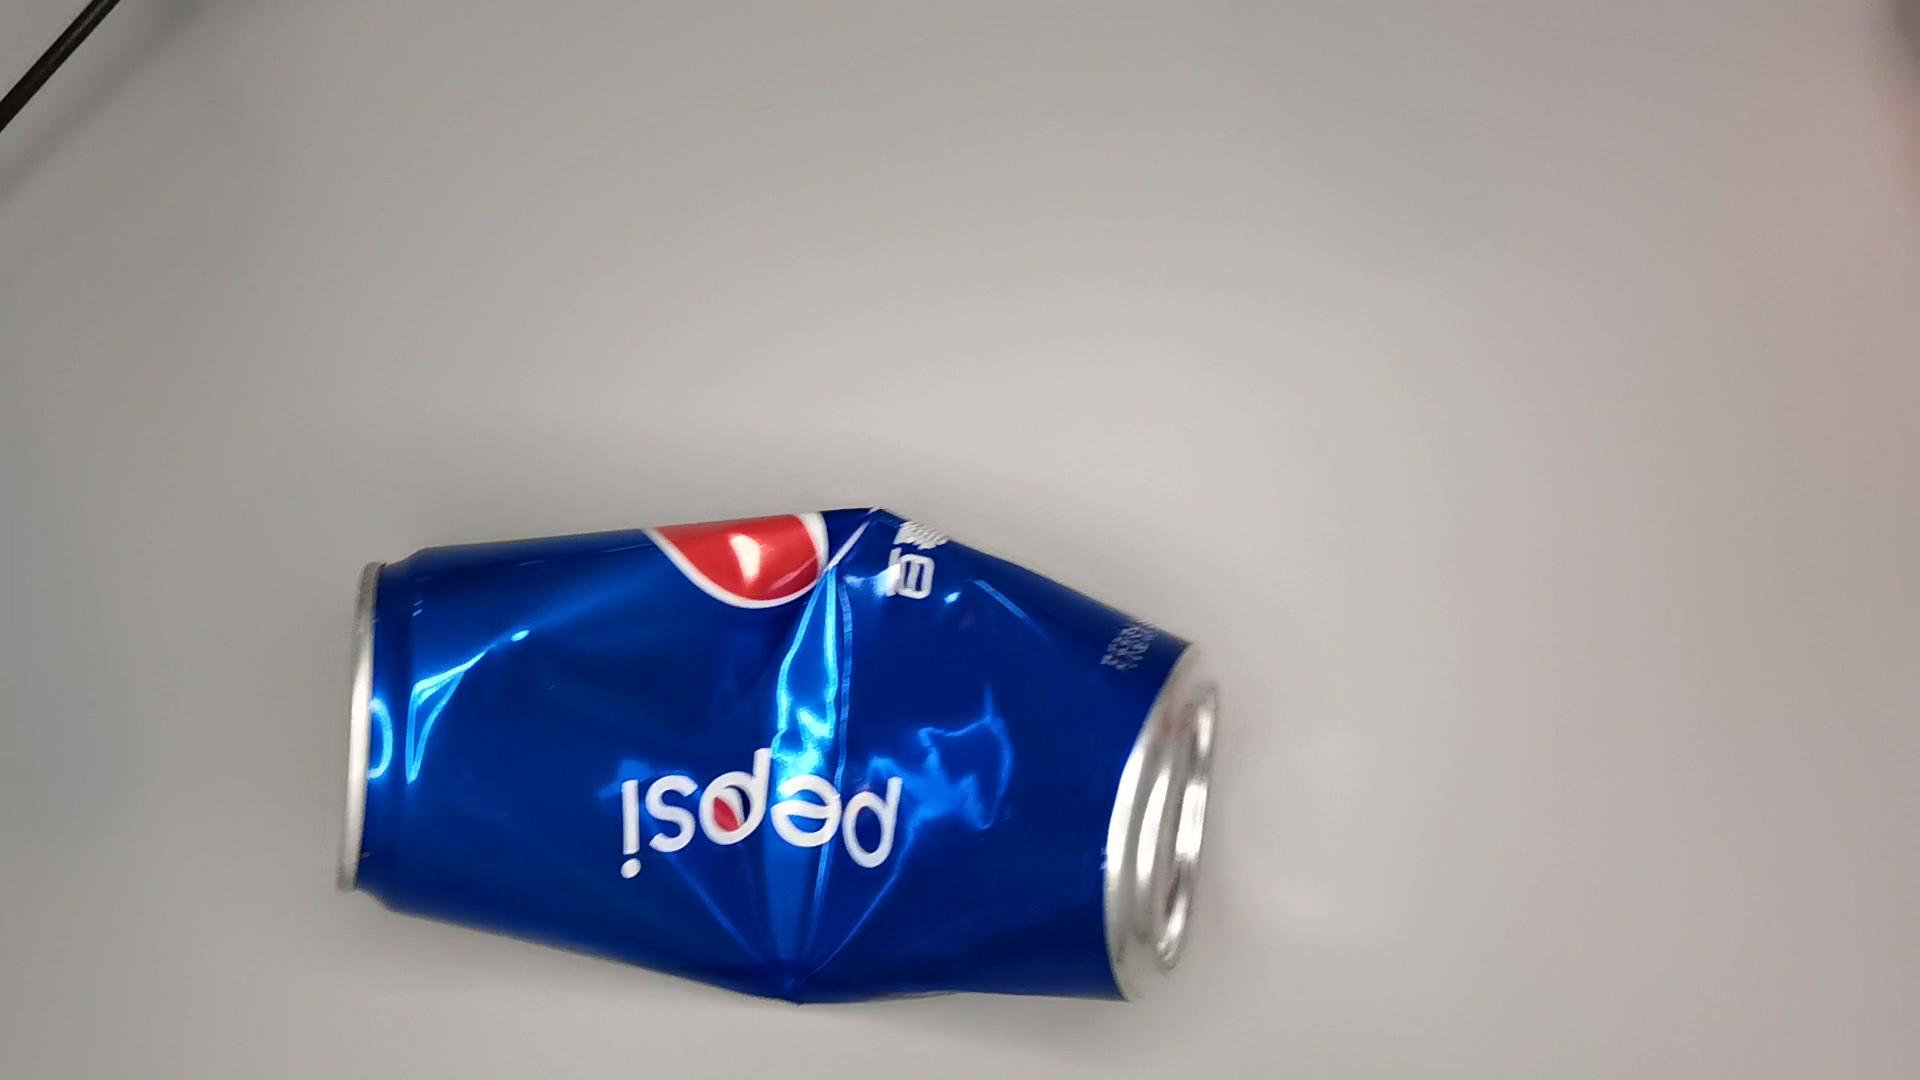can: (323, 504, 1229, 1023)
